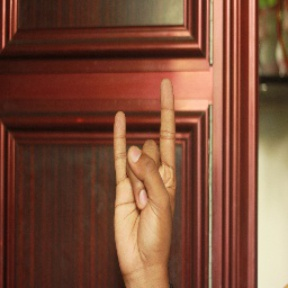V: (109, 76, 180, 270)
